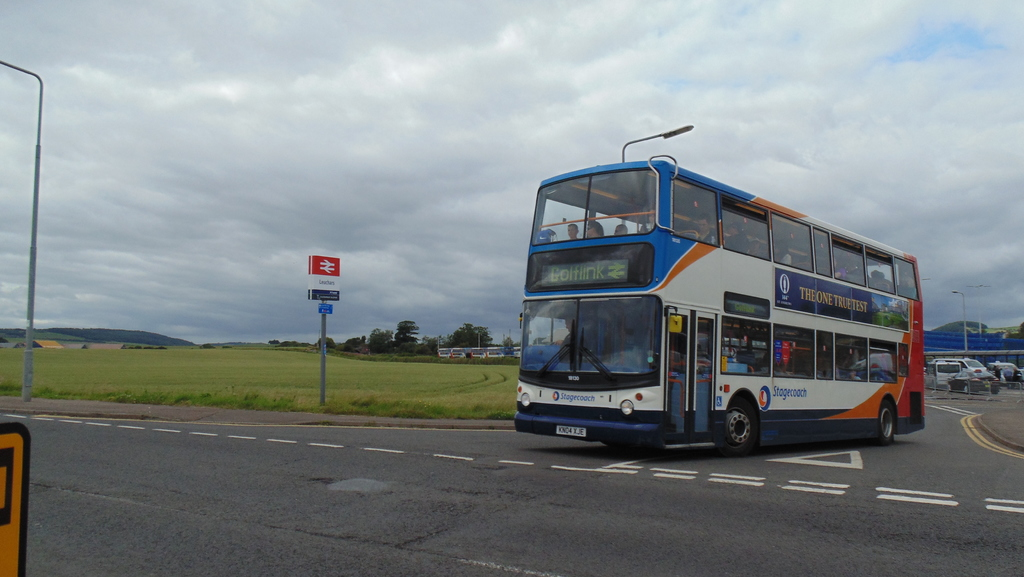Car: (935, 357, 988, 374)
